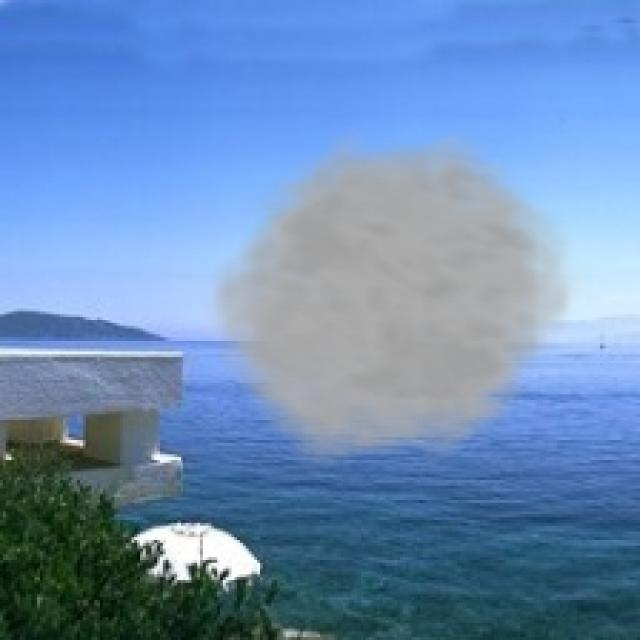smoke: (197, 132, 592, 477)
